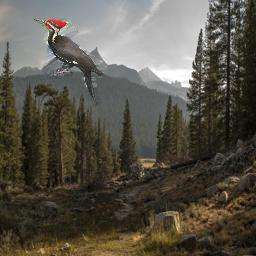Woodpecker: (33, 18, 104, 106)
